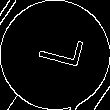L_W: (27, 34, 83, 76)
